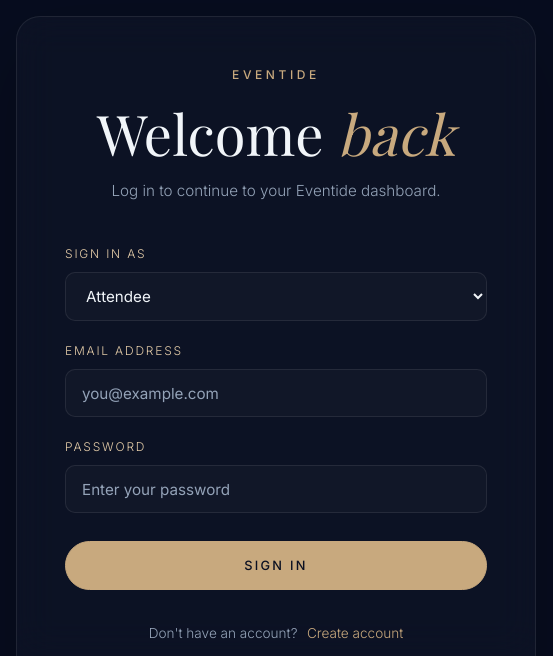
Scenario: EMS-FR-03 Login failures › an error without a message gets a default one
Type "user@test.com" into the field labelled "Email address".
click(276, 393); type("user@test.com")  # box [65,369,487,417]
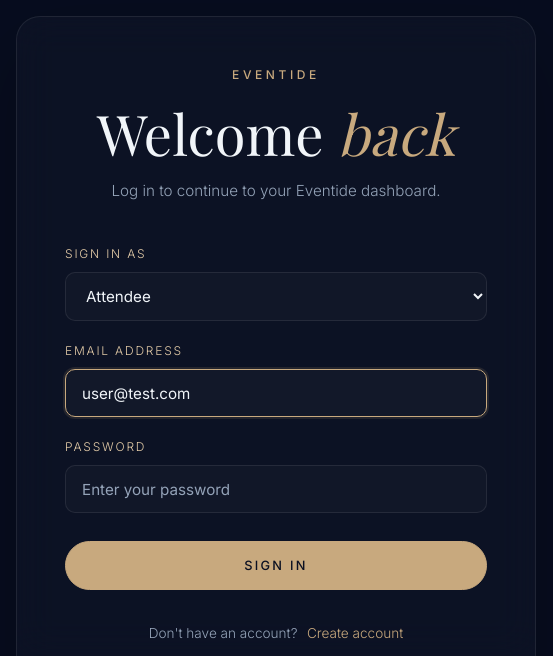
Type "Password123" into the password field labelled "Password".
click(276, 489); type("Password123")  # box [65,465,487,513]
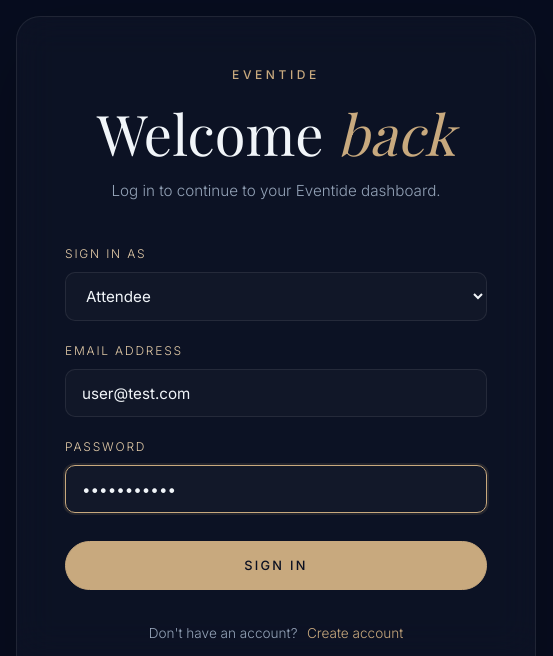
Click the button "Sign in".
click(276, 566)  # box [65,541,487,590]
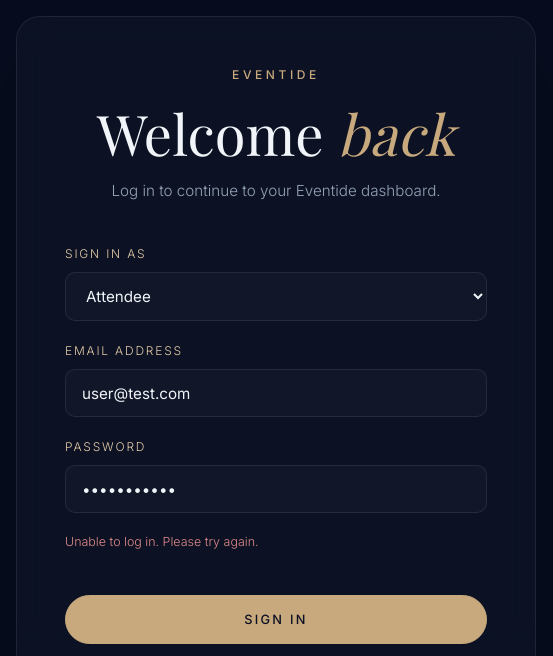
Now the text "Unable to log in. Please try again." is shown, box [65,534,258,549]
